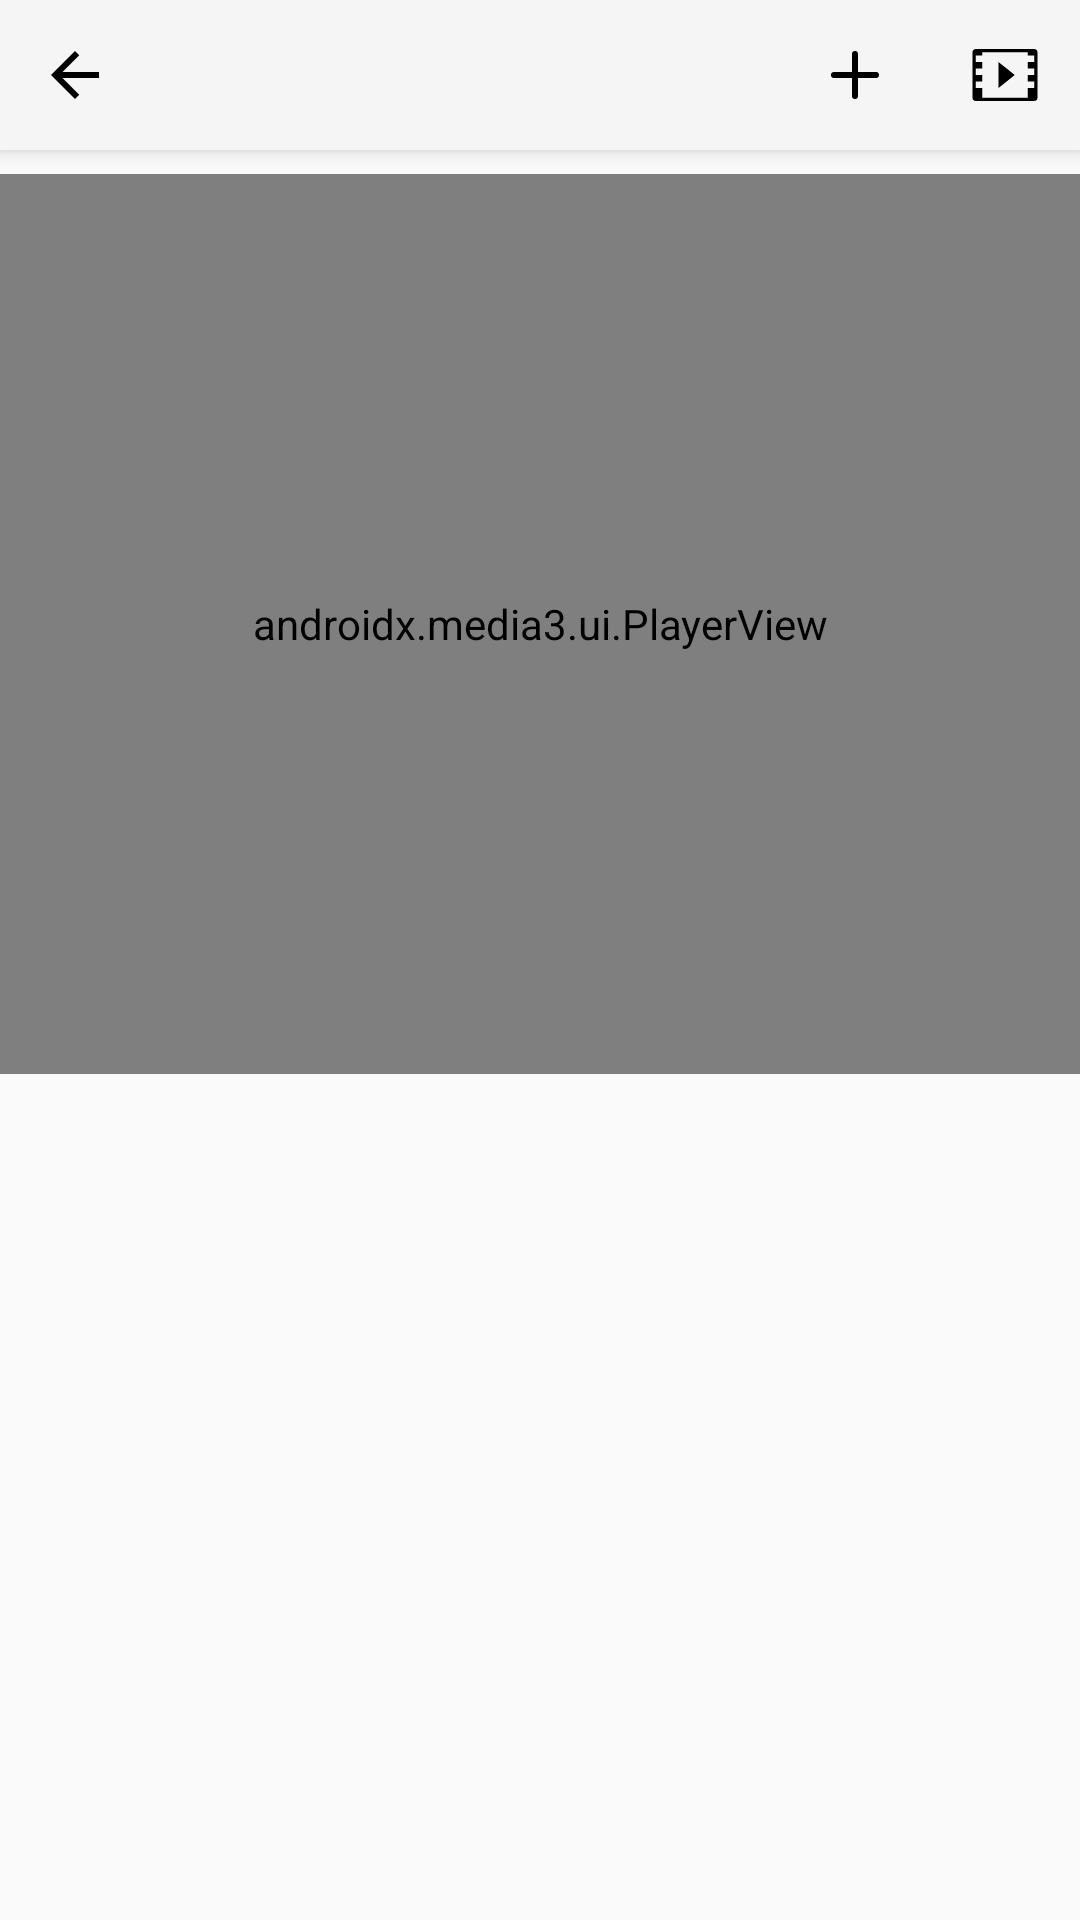

Screen size 1080 × 1920. Icon name, then its center in pixels as [x,y]:
add: [855,75]
back: [75,75]
generate video: [1005,75]
